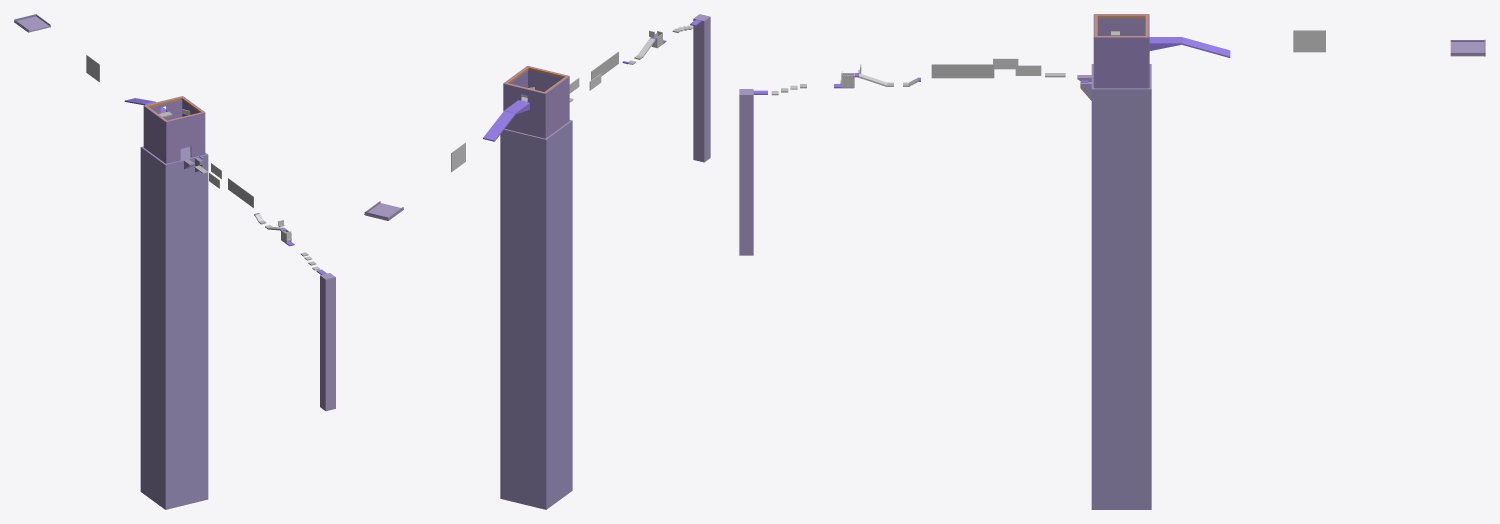
File: maptuto.glb
3 views of the same model, side by side, from view 1: azimuth 30°, elevation 25°; view 2: azimuth 150°, elevation 25°; view 3: azimuth 270°, elevation 25° (orthographic). The views are drawn at different scales.
Parts seen in each view (by area): view 1: Cube.027, Cube, Cube.052, Cube.029, Cube.030; view 2: Cube.027, Cube, Cube.030, Cube.029, Cube.052, Cube.061; view 3: Cube.027, Cube.033, Cube, Cube.023, Cube.029.
Part boxes in pixels (x1,y1,x2,y2): Cube.027: [140, 146, 208, 509]; Cube: [320, 273, 335, 411]; Cube.052: [166, 112, 205, 163]; Cube.029: [143, 105, 166, 163]; Cube.030: [144, 96, 182, 120]; Cube.027: [500, 120, 572, 509]; Cube: [693, 14, 710, 162]; Cube.030: [503, 83, 545, 138]; Cube.029: [545, 76, 569, 138]; Cube.052: [528, 66, 568, 91]; Cube.061: [483, 111, 515, 141]; Cube.027: [1091, 64, 1151, 509]; Cube.033: [1094, 37, 1148, 88]; Cube: [739, 89, 753, 255]; Cube.023: [931, 64, 994, 78]; Cube.029: [1094, 14, 1148, 35].
Bounding box in the file's own units: 39.9 × 344 × 494.
